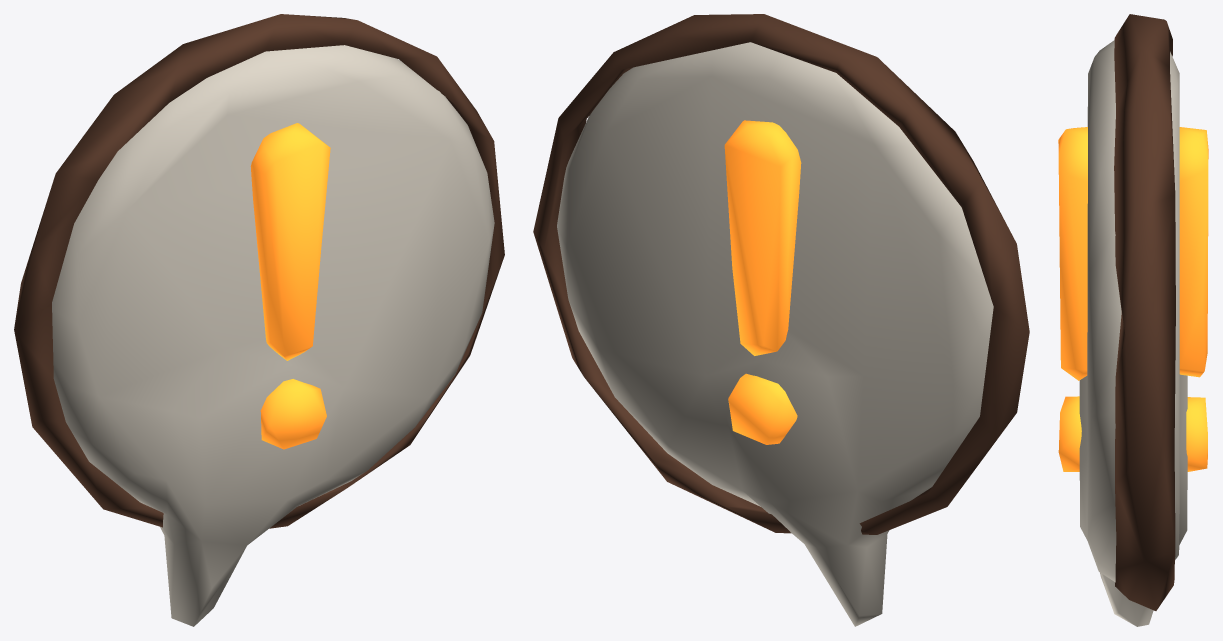
Rendered from bong_cho.glb.
The picture shows the model from 3 angles, left to right: view 1: azimuth 30°, elevation 25°; view 2: azimuth 150°, elevation 25°; view 3: azimuth 270°, elevation 25°; orthographic projection. The views are drawn at different scales.
Parts seen in each view (by area): view 1: bong_than_cho, bong_vien_cho, bong_dau_truoc_cho; view 2: bong_than_cho, bong_vien_cho, bong_dau_sau_cho; view 3: bong_vien_cho, bong_than_cho, bong_dau_sau_cho, bong_dau_truoc_cho.
Part boxes in pixels (x1,y1,x2,y2): bong_than_cho: (52,45,494,626); bong_vien_cho: (14,14,504,528); bong_dau_truoc_cho: (250,123,330,449); bong_than_cho: (557,42,993,626); bong_vien_cho: (533,14,1029,534); bong_dau_sau_cho: (724,120,801,444); bong_vien_cho: (1114,14,1175,610); bong_than_cho: (1079,40,1187,626); bong_dau_sau_cho: (1179,127,1208,471); bong_dau_truoc_cho: (1058,127,1087,471).
Bounding box in the file's own units: 0.3269 × 0.3761 × 0.0817.
